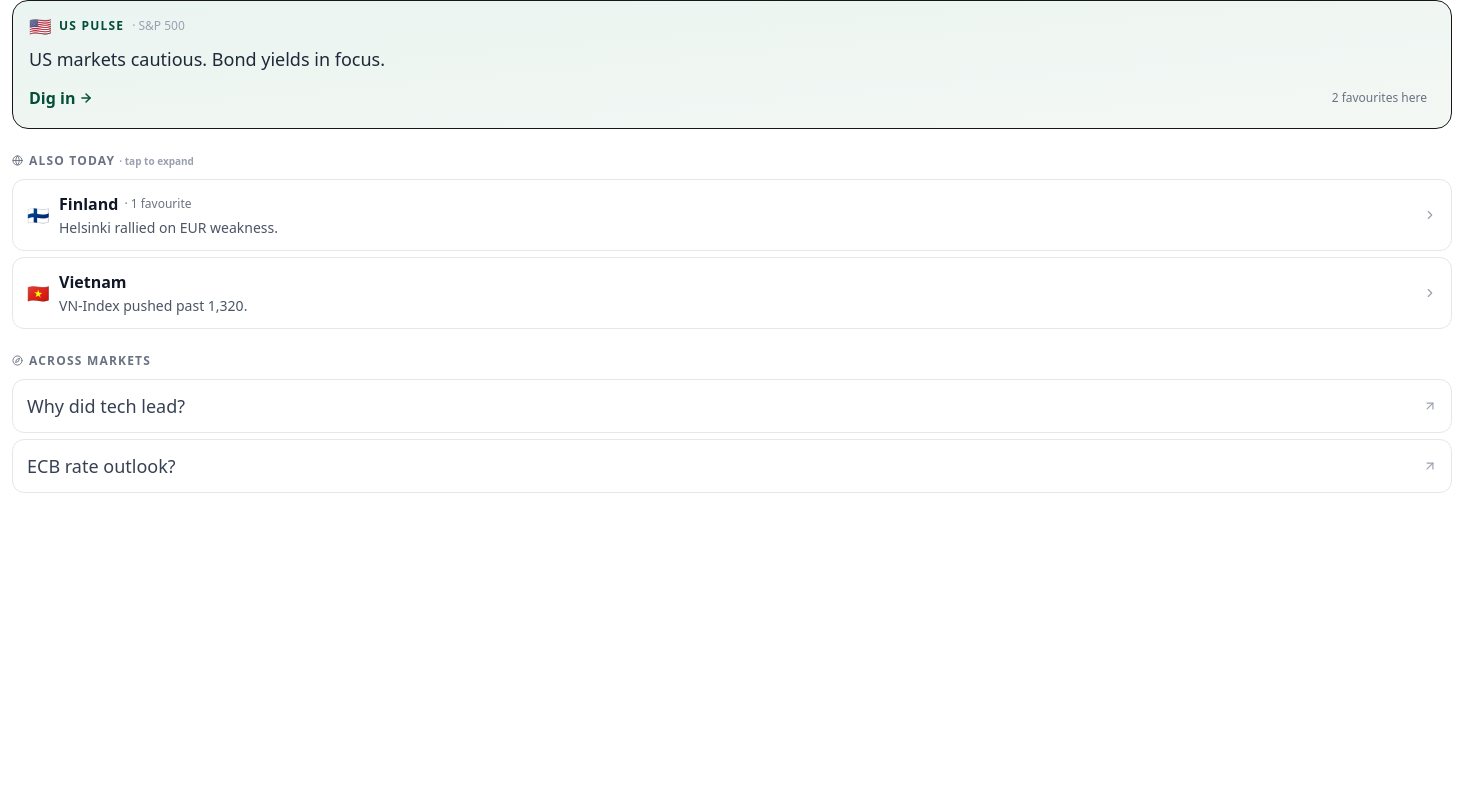
Test: SmartBriefPanel › only one secondary expanded at a time
Note: Click Finland to expand (use exact aria-label from CollapsedMarketRow)
Click the button "Finland": (89, 204) [13, 180, 1451, 250]
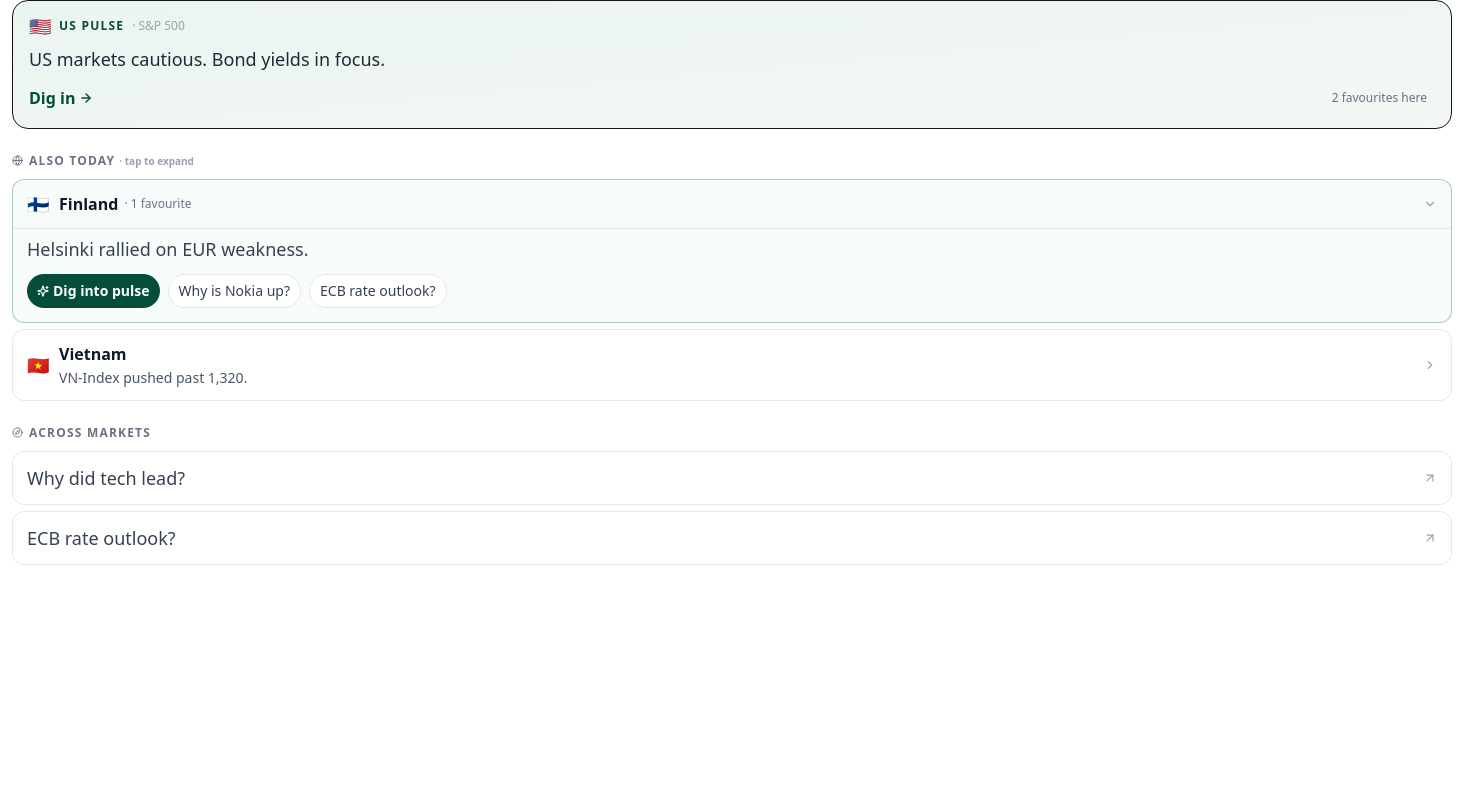
Now the button "Dig into pulse" is shown, box [27, 274, 160, 308]
Note: Click Vietnam — Finland should collapse
Click the button "🇻🇳 Vietnam VN-Index pushed past 1,320.": (93, 354) [13, 330, 1451, 400]
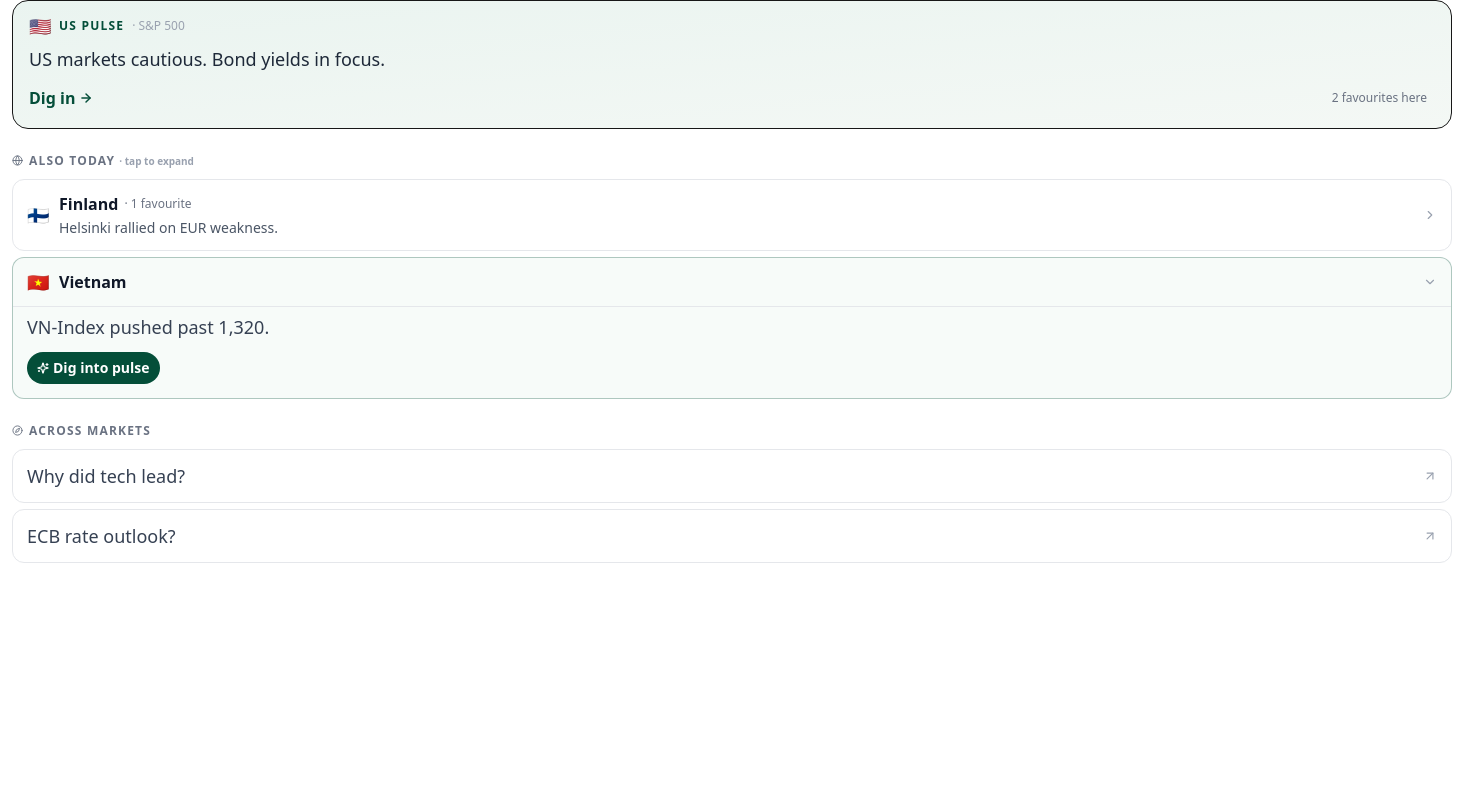
Now the number of buttons "Dig into pulse" is 1, box [27, 352, 160, 384]
